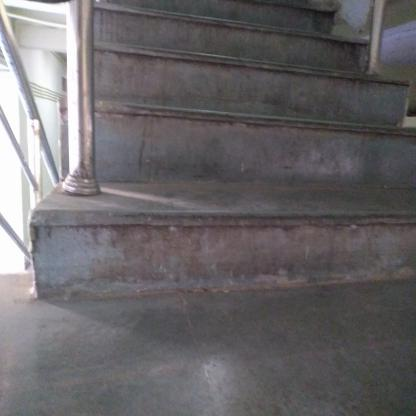stairs: (101, 33, 366, 310)
